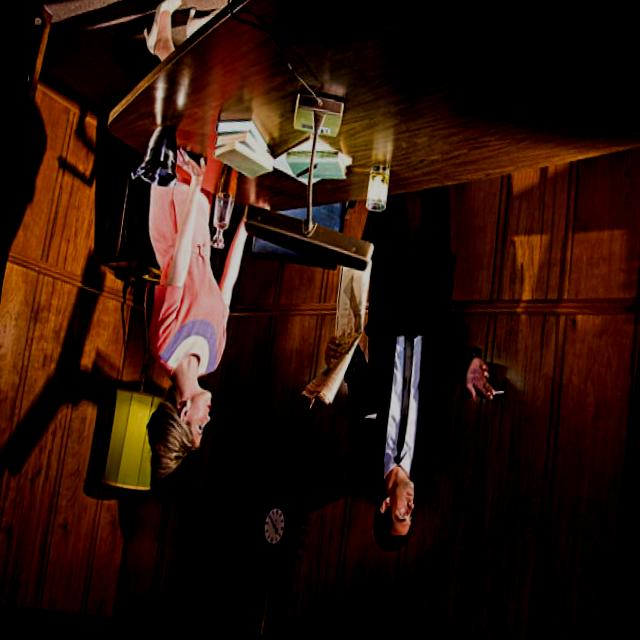cigarette: (484, 387, 508, 404)
